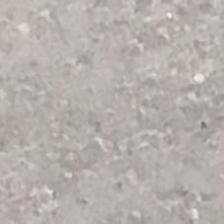Non_Crack: (7, 8, 224, 212)
